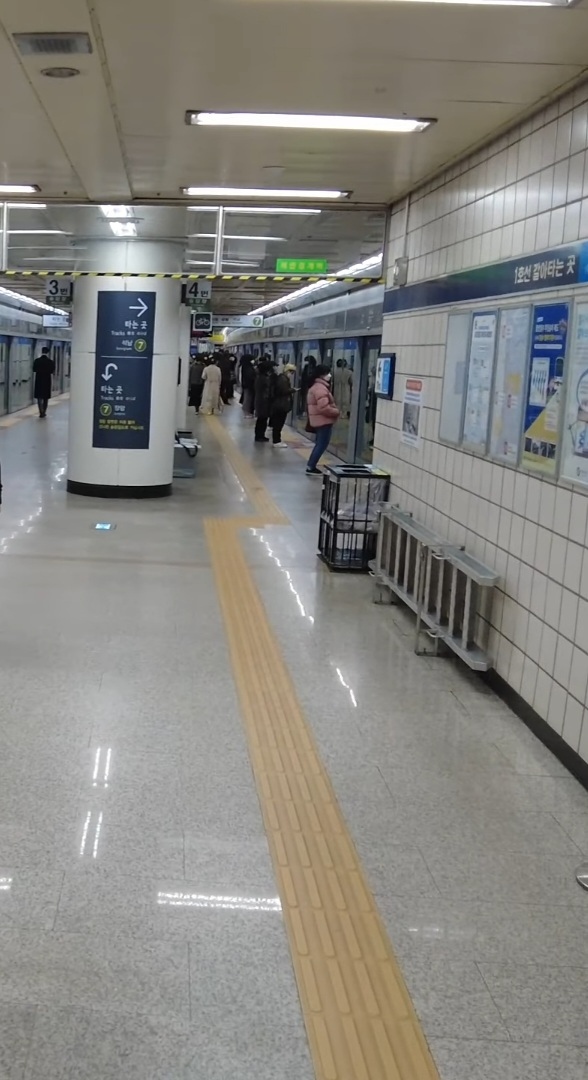guideBlock: (286, 1013, 442, 1080), (277, 959, 429, 1023), (247, 828, 368, 888), (278, 871, 389, 936), (282, 909, 398, 971), (198, 568, 297, 629), (235, 744, 333, 803), (233, 687, 320, 737), (218, 618, 299, 671), (219, 654, 302, 704), (246, 728, 340, 765), (261, 807, 357, 841), (216, 593, 279, 635)
